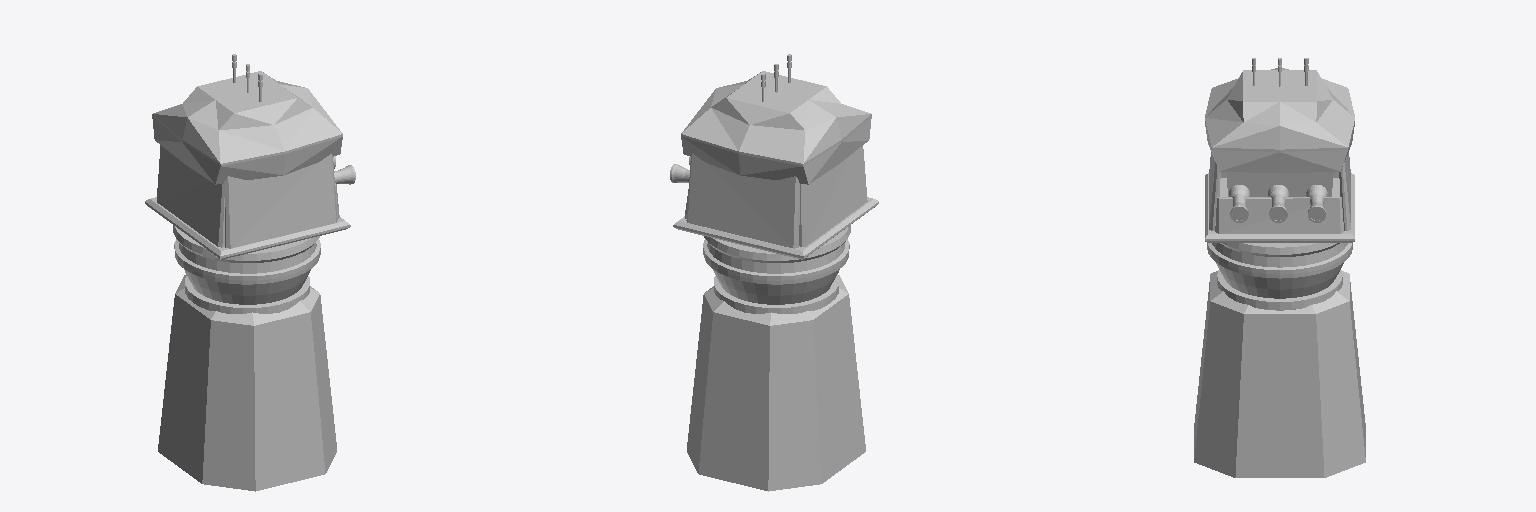
Rendered from Tower LITLE02.obj.
3 renders of one model, left to right at view 1: azimuth 30°, elevation 25°; view 2: azimuth 150°, elevation 25°; view 3: azimuth 270°, elevation 25°, orthographic.
Visible parts, largest first — view 1: korpus, pol.001, Cylinder.001, pol.002, pol.004, pol; view 2: korpus, pol.001, Cylinder.001, pol.003, pol.004, pol; view 3: korpus, pol.001, Cylinder.001, pol.005, pol, pol.003, pol.002, Cylinder.003, Cylinder, Cylinder.002.
Boxes of the visible parts, x1,y1,x2,y2 form: korpus: [158, 274, 336, 491]; pol.001: [152, 71, 342, 184]; Cylinder.001: [173, 225, 320, 313]; pol.002: [225, 154, 337, 248]; pol.004: [157, 145, 224, 247]; pol: [145, 197, 350, 259]; korpus: [687, 274, 865, 491]; pol.001: [681, 71, 871, 184]; Cylinder.001: [703, 225, 850, 313]; pol.003: [686, 154, 799, 248]; pol.004: [799, 146, 867, 246]; pol: [673, 197, 878, 259]; korpus: [1194, 271, 1365, 477]; pol.001: [1205, 68, 1354, 196]; Cylinder.001: [1207, 243, 1352, 310]; pol.005: [1215, 197, 1343, 233]; pol: [1205, 173, 1354, 242]; pol.003: [1339, 152, 1350, 230]; pol.002: [1209, 152, 1220, 230]; Cylinder.003: [1306, 185, 1327, 222]; Cylinder: [1229, 185, 1249, 222]; Cylinder.002: [1268, 185, 1288, 222].
Size of the model in its own units: 6.75 by 16.41 by 6.61.